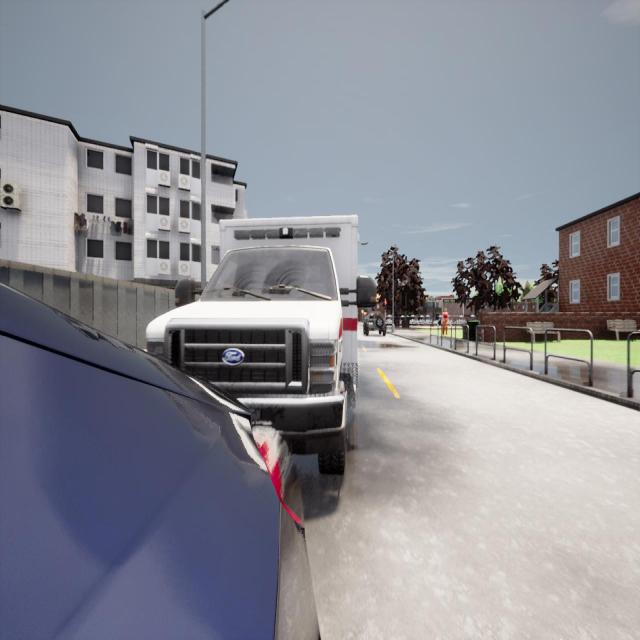Pedestrian: (441, 307, 448, 336)
Vehicle: (0, 277, 318, 637), (147, 215, 376, 479), (363, 313, 387, 337)
traffic_light: (384, 300, 387, 310)
